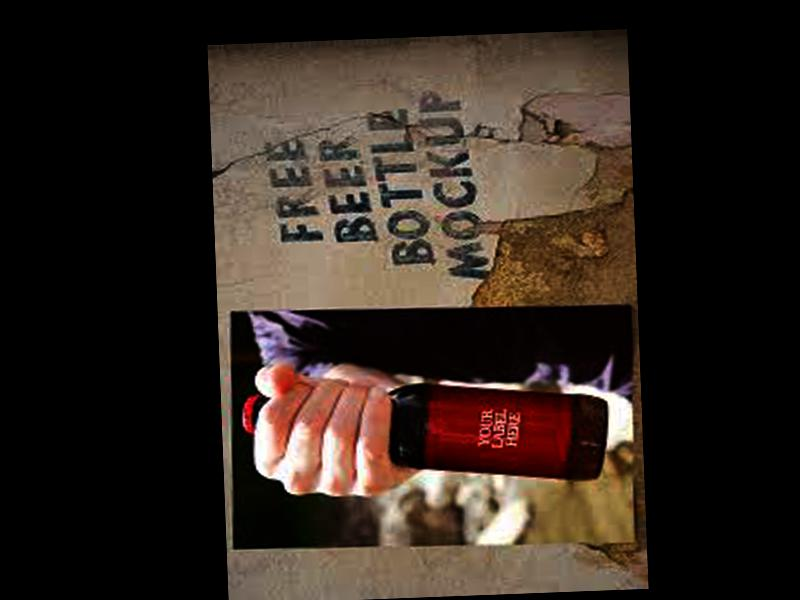Beer: (241, 380, 610, 493)
